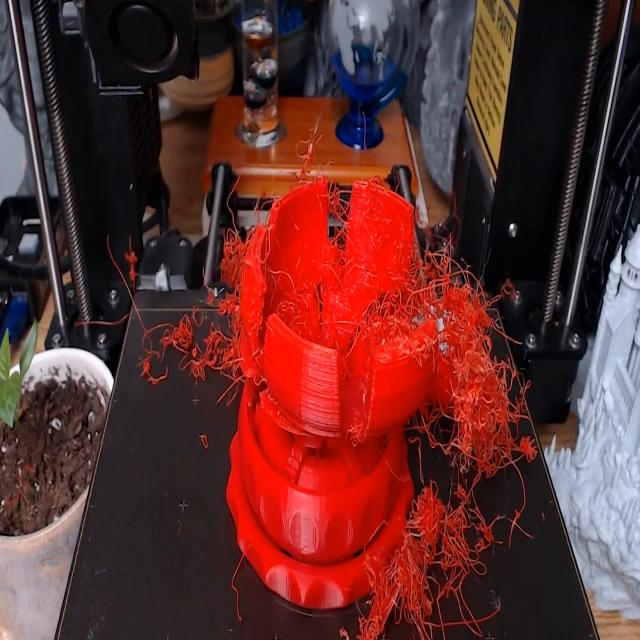spaghetti: (351, 183, 546, 640), (120, 227, 246, 397)
